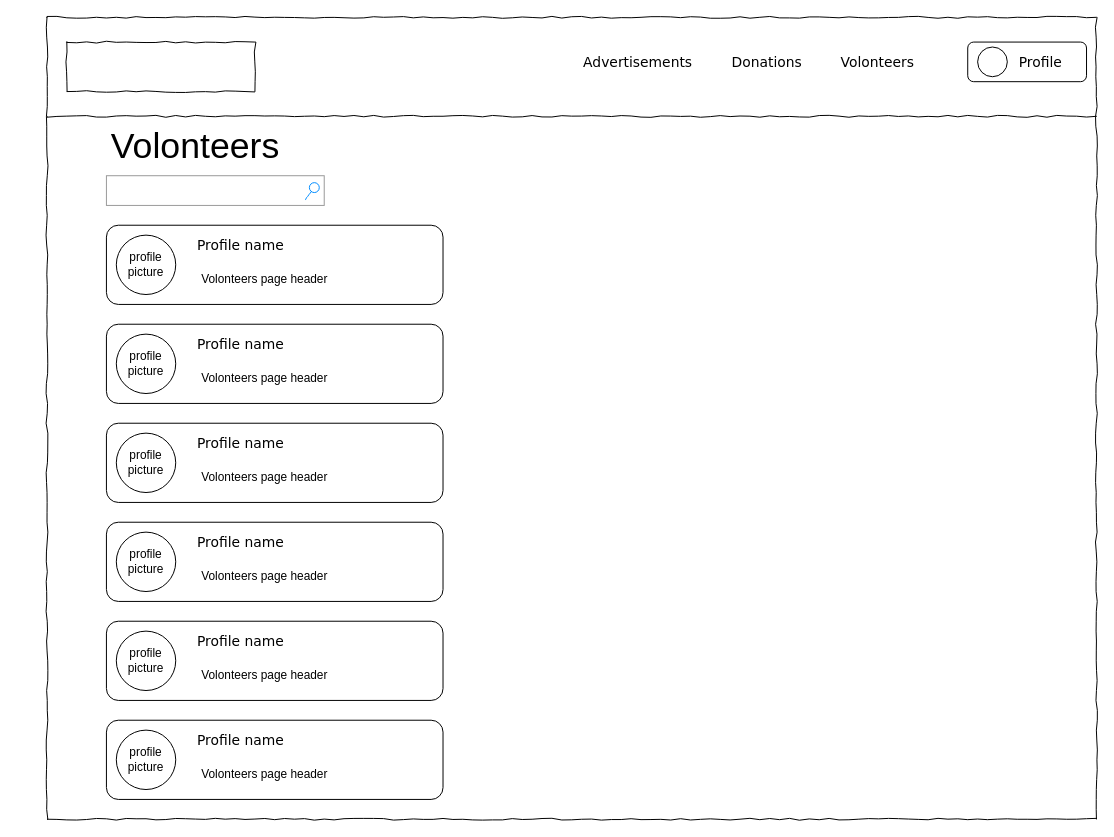
This 1114x837 diagram has some shape labels left out. Each missing label, with the centre of its shape:
"LOGO" belongs at [160,66].
"Search" belongs at [214,190].
